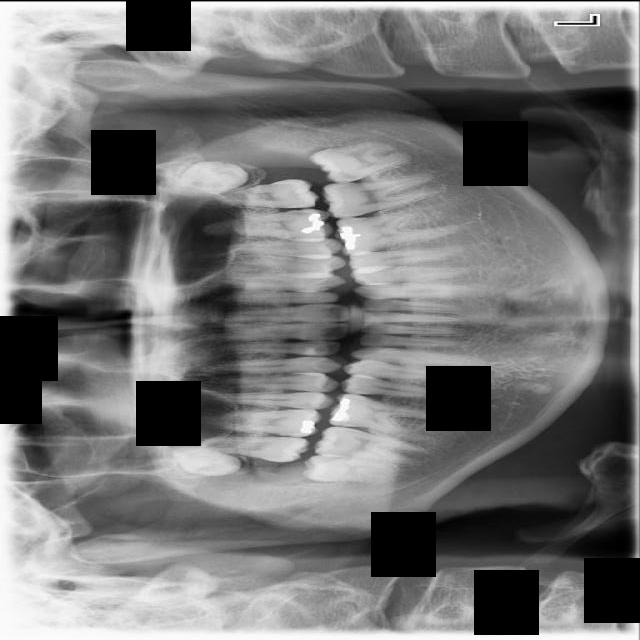3M ESPE Implant: (171, 443, 243, 479)
52: (331, 210, 384, 259), (327, 389, 380, 434), (276, 207, 333, 243), (277, 407, 322, 436), (297, 339, 340, 356), (330, 435, 346, 446)
73: (564, 22, 572, 26)
BioHorizons Implant: (165, 178, 320, 209)
BioLife Implant: (154, 151, 252, 206)
Biomet 3i Implant: (307, 132, 410, 189)
Blue Sky Bio Implant: (322, 173, 437, 219)
Caries: (174, 435, 311, 462)
Implant: (313, 422, 423, 467)
Keystone Dental Implant: (301, 452, 397, 484)
